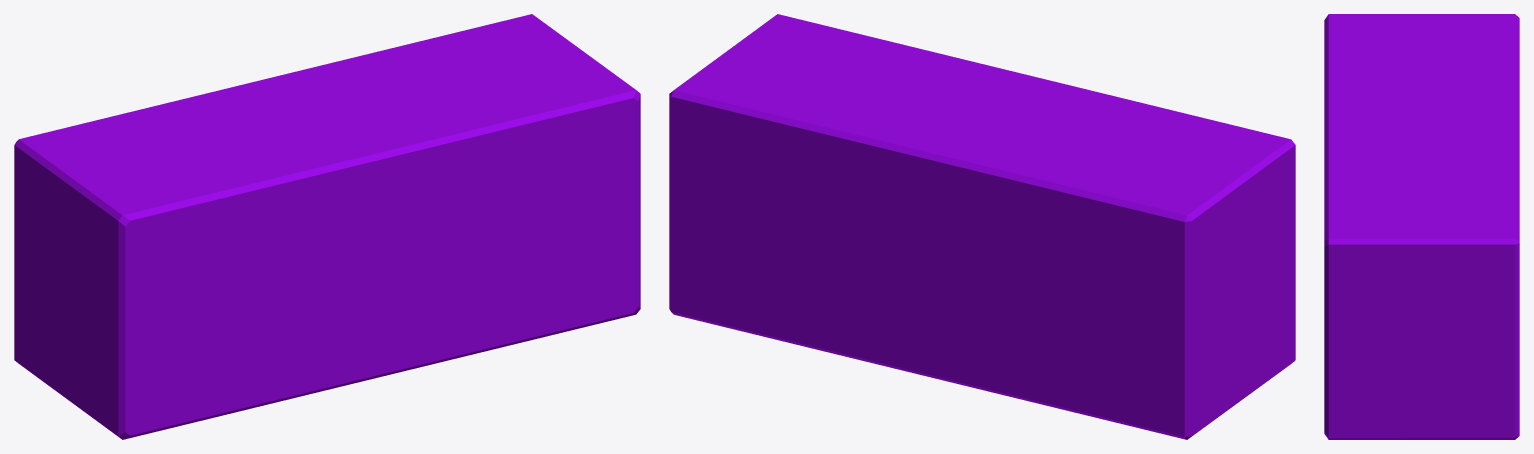
Rendered from Mesh_ExitSign.fbx.
3 views of the same model, side by side, from view 1: azimuth 30°, elevation 25°; view 2: azimuth 150°, elevation 25°; view 3: azimuth 270°, elevation 25° (orthographic). The views are drawn at different scales.
Parts seen in each view (by area): view 1: exit_low; view 2: exit_low; view 3: exit_low.
Boxes of the visible parts, <box> form: exit_low: <box>14,14,640,439</box>; exit_low: <box>669,14,1295,439</box>; exit_low: <box>1324,14,1519,439</box>.
Size of the model in its own units: 38.72 by 15.91 by 14.01.
